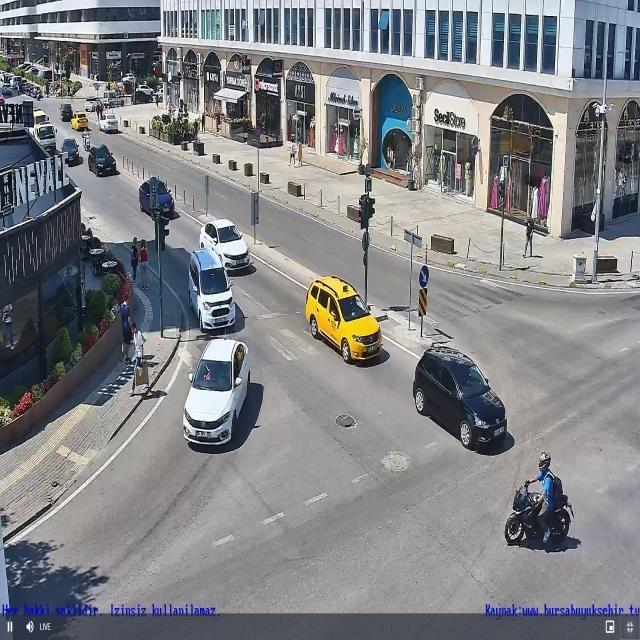Car: (412, 342, 509, 450), (182, 339, 254, 446), (305, 271, 386, 362), (189, 248, 237, 329), (200, 219, 249, 268), (138, 178, 173, 213), (88, 142, 117, 176), (99, 112, 120, 132), (71, 112, 90, 130)
Cycle: (503, 450, 574, 552)
